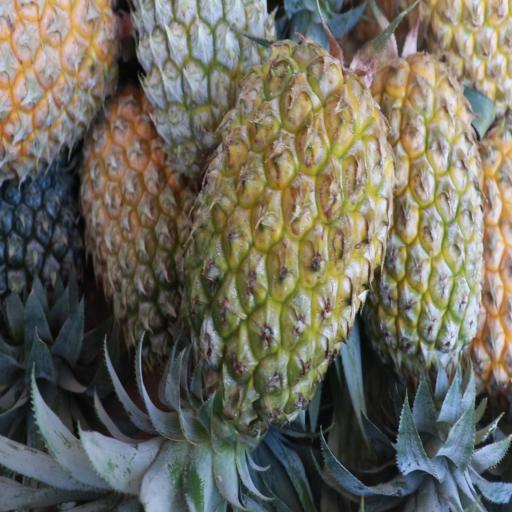------------------------------: (88, 100, 190, 355)
Pineapple - v8 v1: (188, 55, 390, 411), (372, 59, 484, 365), (0, 0, 115, 168)
